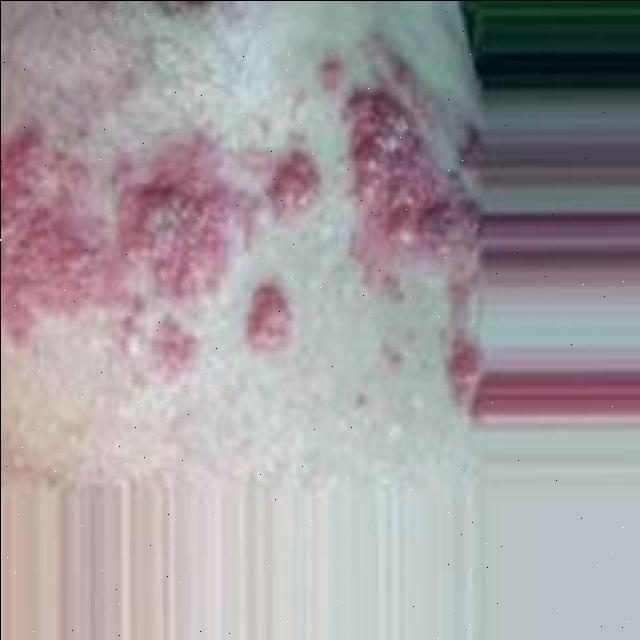Shingles: (0, 130, 322, 364), (322, 50, 488, 405), (248, 282, 293, 352)
